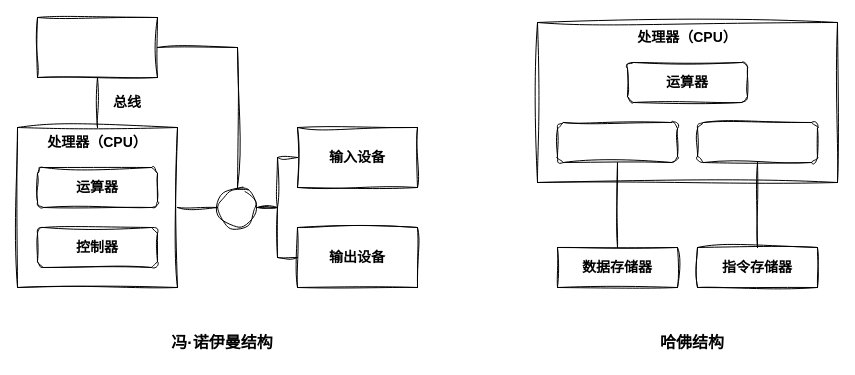
Image size: 855x375. Some labels were removed from this diagram. The centre of each missing label's shape, as x and y in pixels:
存储器: pixel 97 47
指令控制器: pixel 757 142
接口: pixel 237 207
数据控制器: pixel 617 142
